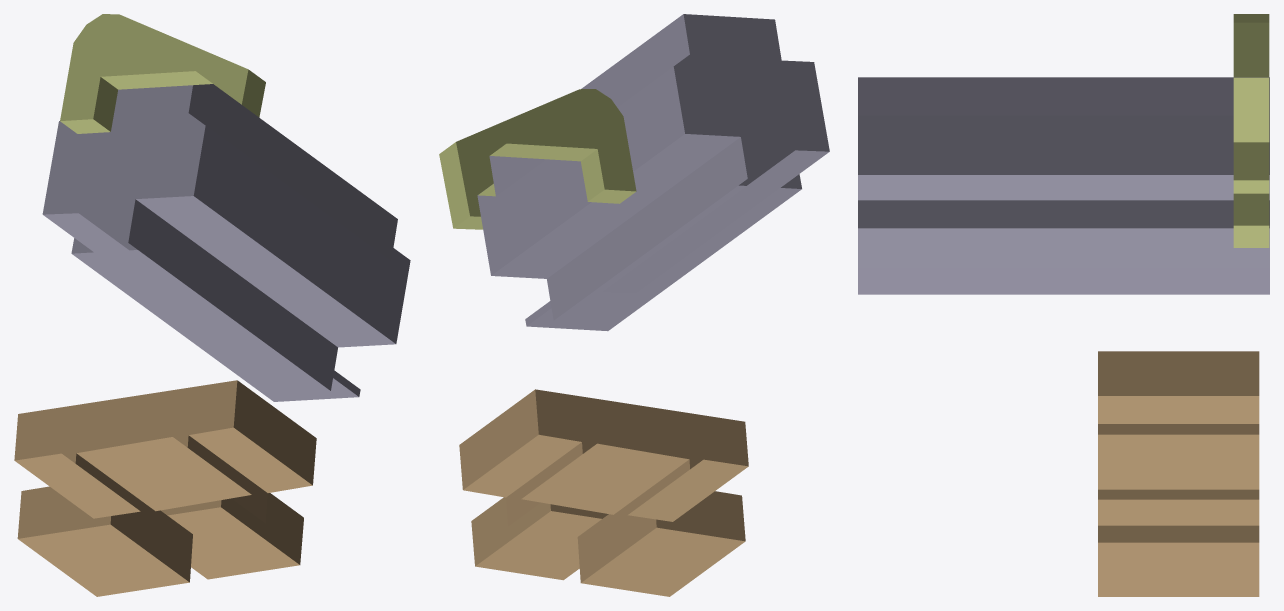
3 views of the same model, side by side, from view 1: azimuth 30°, elevation 25°; view 2: azimuth 150°, elevation 25°; view 3: azimuth 270°, elevation 25° (orthographic). The views are drawn at different scales.
Parts seen in each view (by area): view 1: 0_1_0_0_1_2_3; view 2: 0_1_0_0_1_2_3; view 3: 0_1_0_0_1_2_3.
Boxes of the visible parts, <box> form: 0_1_0_0_1_2_3: <box>14,14,410,596</box>; 0_1_0_0_1_2_3: <box>439,14,829,596</box>; 0_1_0_0_1_2_3: <box>858,14,1269,596</box>.
Bounding box in the file's own units: 47.01 × 97.15 × 69.
